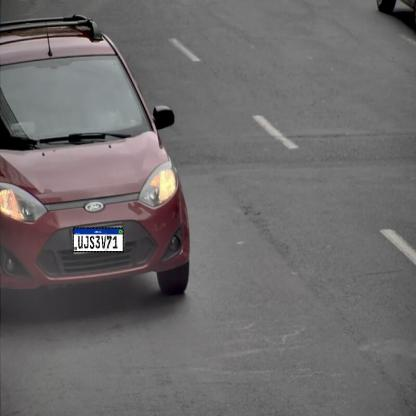PlacaM: (73, 228, 124, 252)
